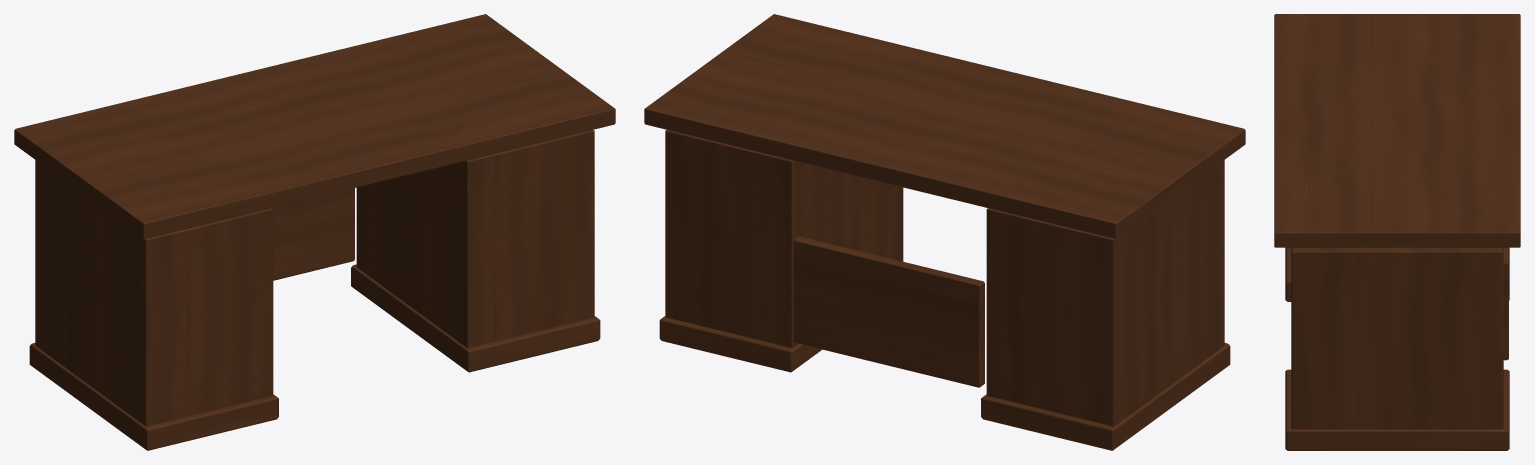
The model's file is premium_lod2.glb.
3 views of the same model, side by side, from view 1: azimuth 30°, elevation 25°; view 2: azimuth 150°, elevation 25°; view 3: azimuth 270°, elevation 25° (orthographic). The views are drawn at different scales.
Visible parts, largest first — view 1: BATCH_Desk_Premium_LOD2_Desk_Premium_Body, BATCH_Desk_Premium_LOD2_Desk_Premium_Surface; view 2: BATCH_Desk_Premium_LOD2_Desk_Premium_Body, BATCH_Desk_Premium_LOD2_Desk_Premium_Surface; view 3: BATCH_Desk_Premium_LOD2_Desk_Premium_Surface, BATCH_Desk_Premium_LOD2_Desk_Premium_Body.
Part boxes in pixels (x1,y1,x2,y2): BATCH_Desk_Premium_LOD2_Desk_Premium_Body: (29, 130, 600, 450); BATCH_Desk_Premium_LOD2_Desk_Premium_Surface: (14, 14, 615, 239); BATCH_Desk_Premium_LOD2_Desk_Premium_Body: (659, 130, 1230, 450); BATCH_Desk_Premium_LOD2_Desk_Premium_Surface: (644, 14, 1245, 239); BATCH_Desk_Premium_LOD2_Desk_Premium_Surface: (1274, 14, 1520, 247); BATCH_Desk_Premium_LOD2_Desk_Premium_Body: (1285, 247, 1509, 450).
Size of the model in its own units: 1.64 by 0.78 by 0.78.
Materials: 2 (2 with a texture image).
